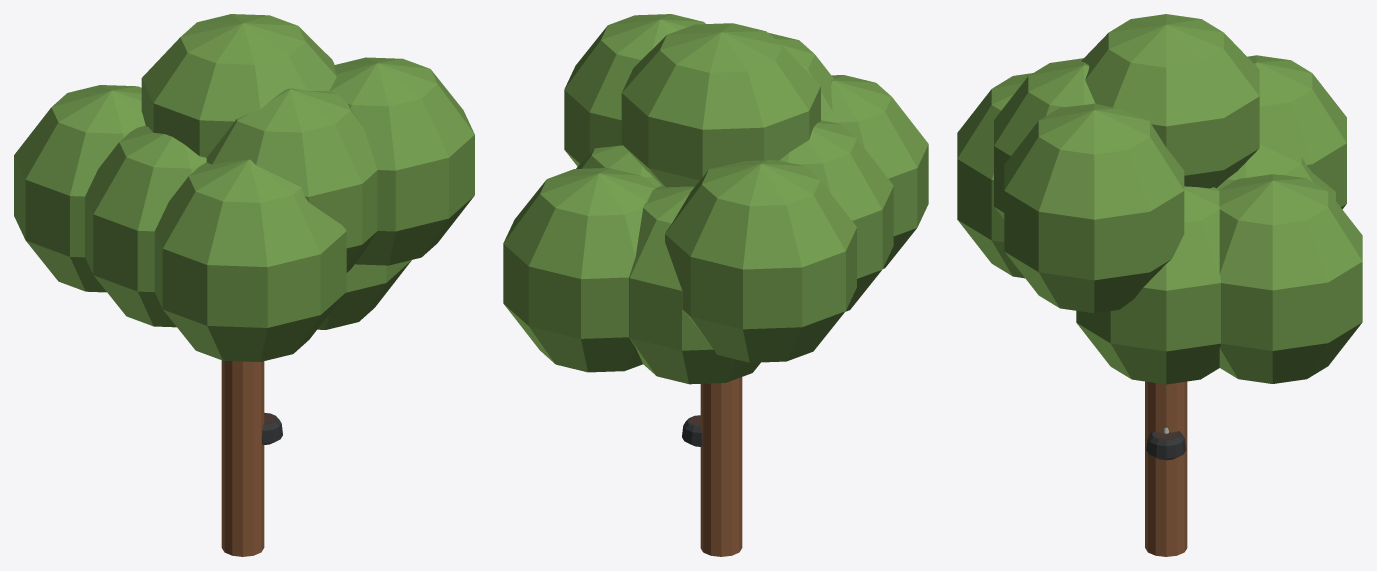
The model's file is 035_tapped_rubber_tree.glb.
3 renders of one model, left to right at view 1: azimuth 30°, elevation 25°; view 2: azimuth 150°, elevation 25°; view 3: azimuth 270°, elevation 25°, orthographic.
Visible parts, largest first — view 1: Tapped rubber tree; view 2: Tapped rubber tree; view 3: Tapped rubber tree.
Part boxes in pixels (bbox=[...]): Tapped rubber tree: bbox=[14, 14, 474, 556]; Tapped rubber tree: bbox=[503, 14, 928, 556]; Tapped rubber tree: bbox=[957, 14, 1362, 556].
Size of the model in its own units: 3.9 by 5.49 by 3.85.
